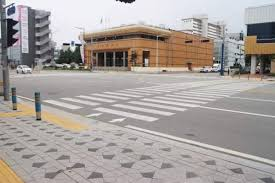guide_blocks: (49, 116, 81, 130), (16, 104, 46, 118), (3, 110, 32, 118)
